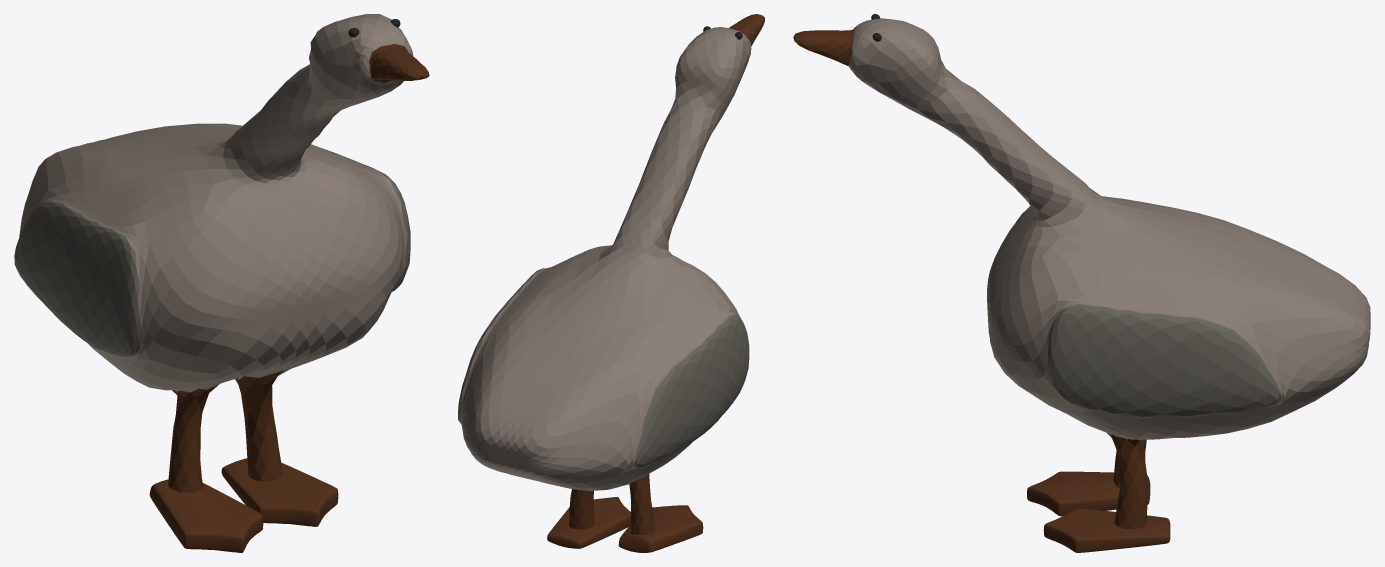
Rendered from goose3.gltf.
3 renders of one model, left to right at view 1: azimuth 30°, elevation 25°; view 2: azimuth 150°, elevation 25°; view 3: azimuth 270°, elevation 25°, orthographic. The views are drawn at different scales.
Parts seen in each view (by area): view 1: Cube; view 2: Cube; view 3: Cube.
Part boxes in pixels (x1=…): Cube: x1=14, y1=14, x2=429, y2=552; Cube: x1=458, y1=14, x2=764, y2=552; Cube: x1=793, y1=14, x2=1370, y2=552.
Bounding box in the file's own units: 8.33 × 16.32 × 17.15.
